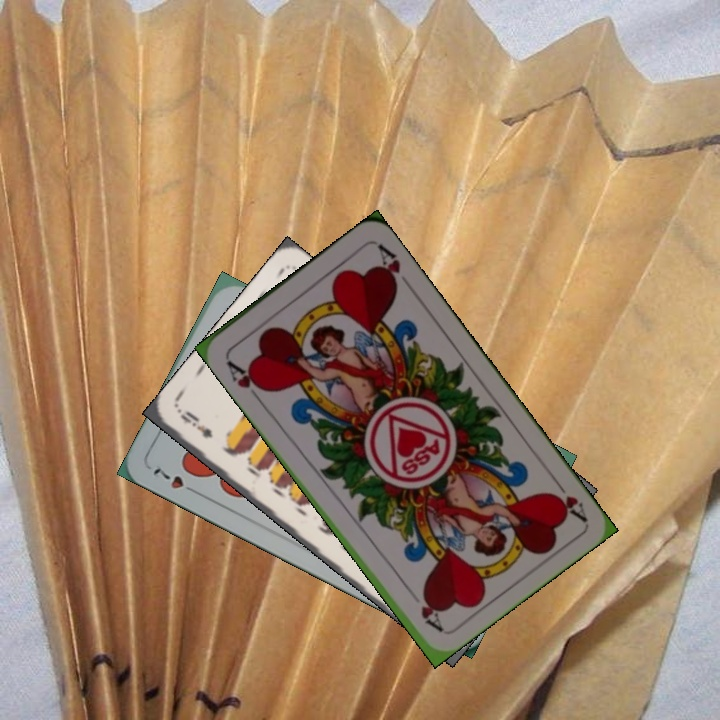E9: (176, 406, 216, 441)
H7: (149, 464, 202, 497)
HA: (222, 354, 270, 404), (546, 472, 589, 524)
